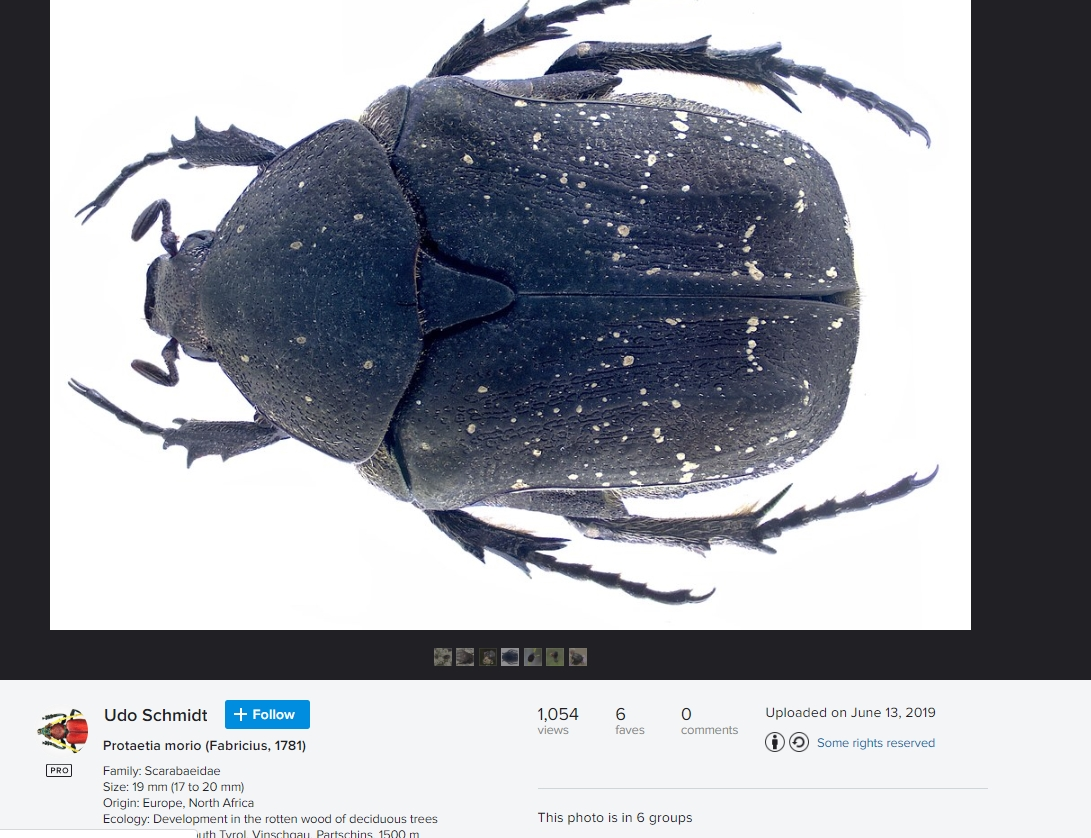Protaetia_morio_morio: (62, 2, 962, 609)
